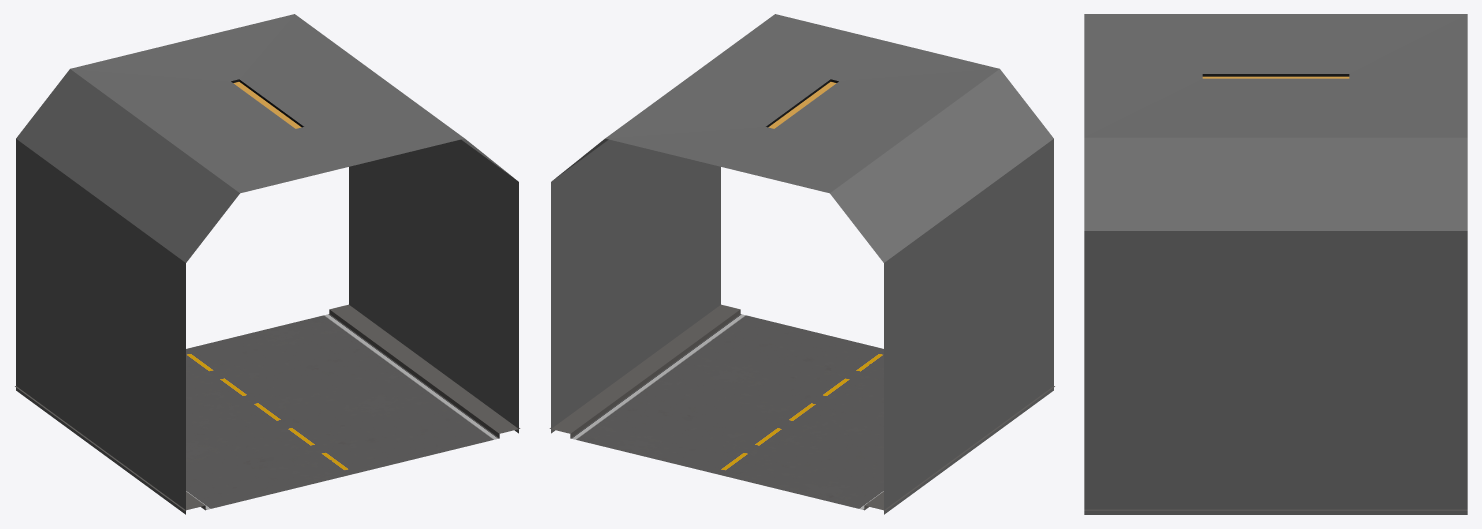
The model's file is SM_Floor_Road_12.fbx.
3 renders of one model, left to right at view 1: azimuth 30°, elevation 25°; view 2: azimuth 150°, elevation 25°; view 3: azimuth 270°, elevation 25°, orthographic. The views are drawn at different scales.
Visible parts, largest first — view 1: SM_Floor_Road_12; view 2: SM_Floor_Road_12; view 3: SM_Floor_Road_12.
Part boxes in pixels (<box>): SM_Floor_Road_12: <box>15,14,520,514</box>; SM_Floor_Road_12: <box>549,14,1054,514</box>; SM_Floor_Road_12: <box>1084,14,1467,514</box>.
Bounding box in the file's own units: 5.7 × 5 × 5.
